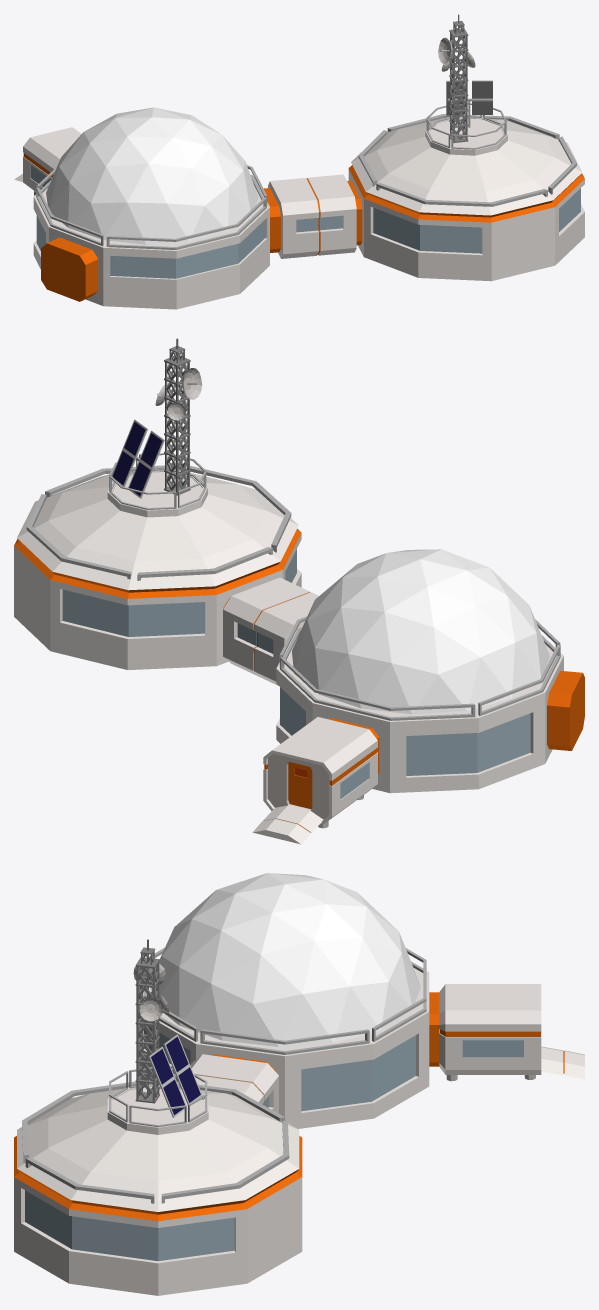
Rendered from Mars-One_base.FBX.
3 renders of one model, top to bottom at view 1: azimuth 30°, elevation 25°; view 2: azimuth 150°, elevation 25°; view 3: azimuth 270°, elevation 25°, orthographic. The views are drawn at different scales.
Parts seen in each view (by area): view 1: Cylinder001; view 2: Cylinder001; view 3: Cylinder001.
Part boxes in pixels (bbox=[...]): Cylinder001: bbox=[14, 14, 584, 309]; Cylinder001: bbox=[14, 338, 584, 844]; Cylinder001: bbox=[14, 873, 584, 1295].
Size of the model in its own units: 7.08 by 3.13 by 5.66.
Materials: 1 (1 with a texture image).
